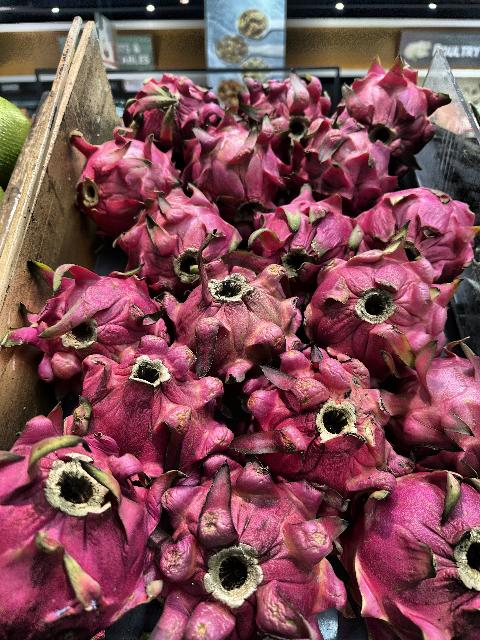buah-naga-matang: (0, 410, 166, 632), (154, 462, 348, 640), (236, 332, 392, 488), (352, 462, 480, 640), (65, 322, 223, 466), (306, 247, 444, 369), (164, 250, 296, 374), (23, 264, 161, 378), (382, 328, 480, 488), (346, 177, 480, 273), (177, 124, 289, 222), (115, 180, 233, 272), (286, 120, 400, 206), (68, 122, 170, 214), (342, 65, 444, 155), (122, 69, 226, 145), (246, 190, 341, 272), (239, 80, 333, 146)
